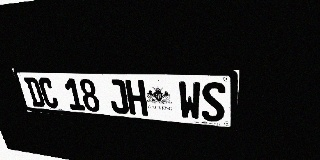1: (62, 78, 85, 111)
8: (78, 79, 101, 112)
C: (37, 78, 60, 109)
D: (24, 77, 46, 107)
H: (125, 80, 148, 116)
J: (106, 79, 130, 114)
S: (201, 82, 226, 122)
W: (178, 81, 201, 120)
